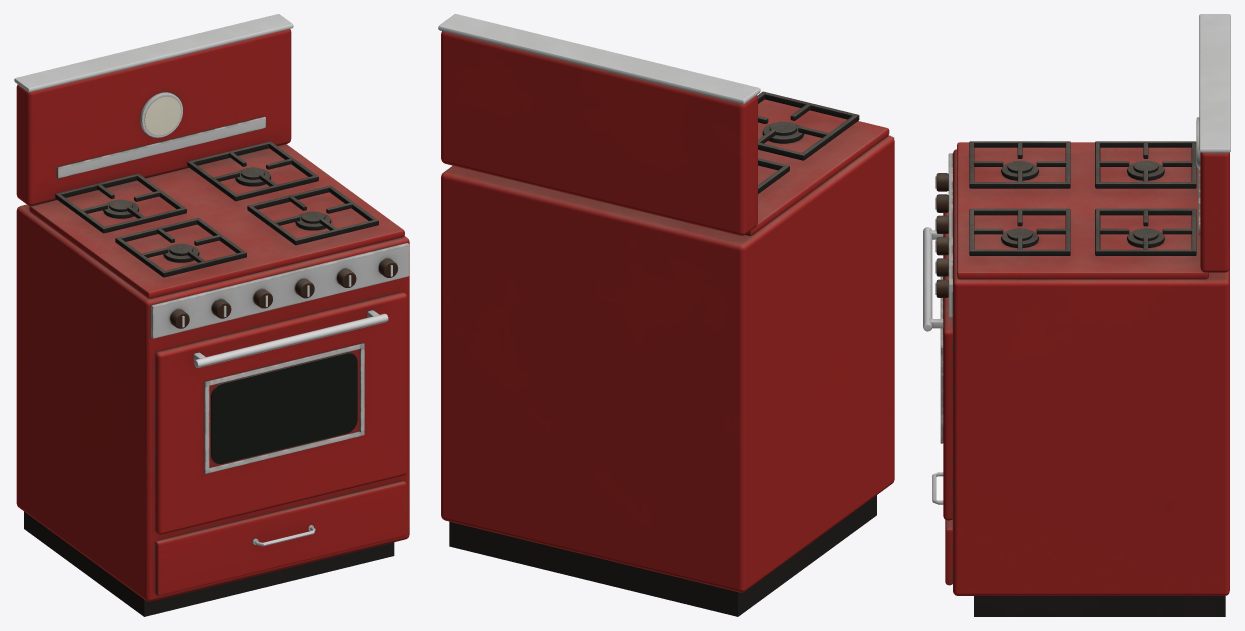
File: stove_red.glb
The picture shows the model from 3 angles, left to right: view 1: azimuth 30°, elevation 25°; view 2: azimuth 150°, elevation 25°; view 3: azimuth 270°, elevation 25°; orthographic projection. The views are drawn at different scales.
Parts seen in each view (by area): view 1: stove_red; view 2: stove_red; view 3: stove_red.
Part boxes in pixels (x1,y1,x2,y2): stove_red: (14,14,409,616); stove_red: (438,14,894,616); stove_red: (923,14,1230,616).
Size of the model in its own units: 0.7641 by 1.24 by 0.7335.
1 material, 1 textured.
